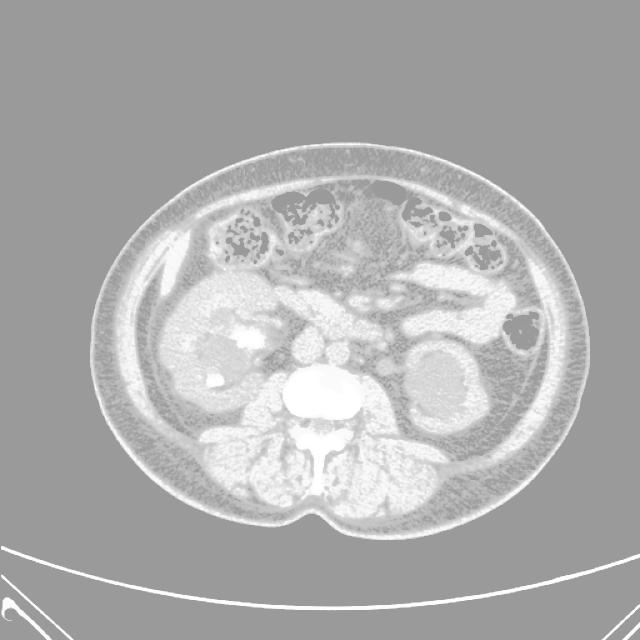STONE: (216, 107, 536, 399)
